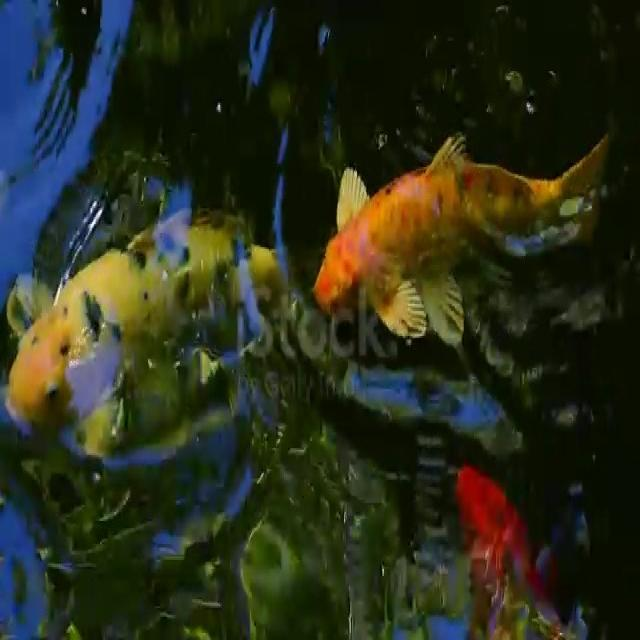fish: (305, 108, 629, 352), (6, 204, 297, 468)
